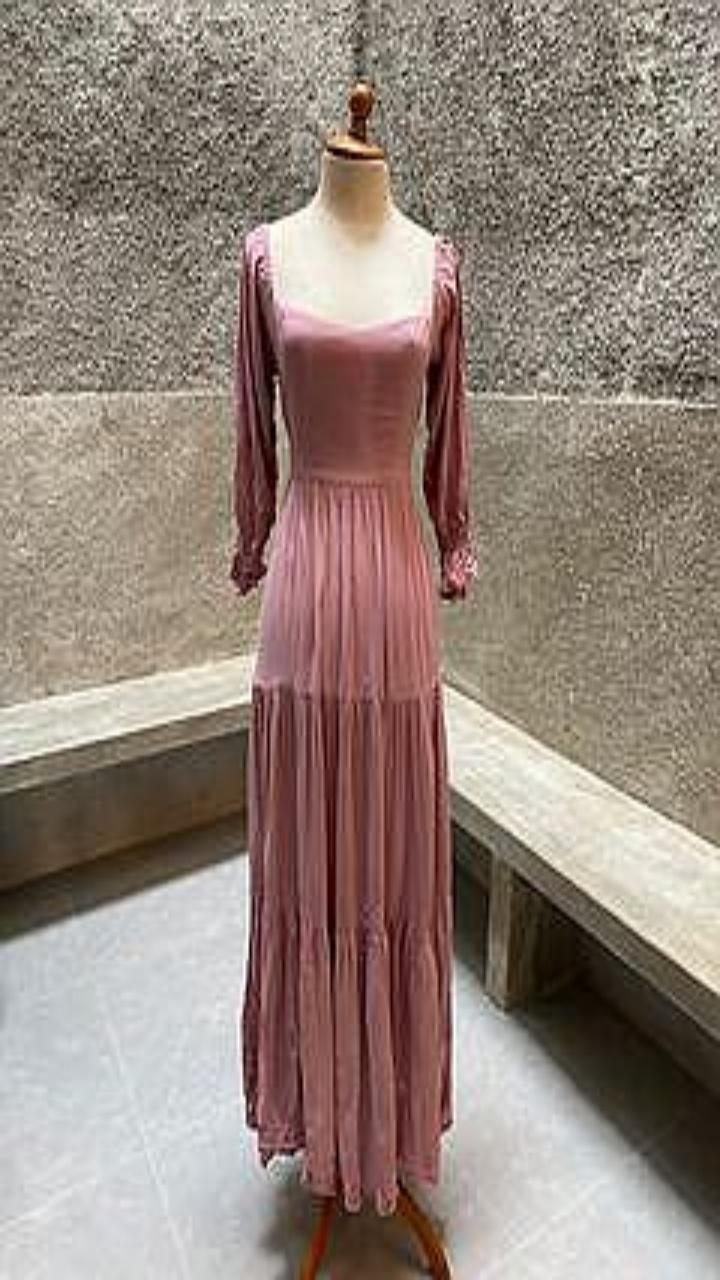Dresses: (231, 223, 477, 1213)
